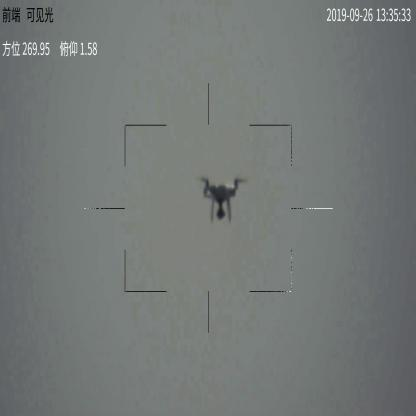uav: (197, 177, 248, 222)
